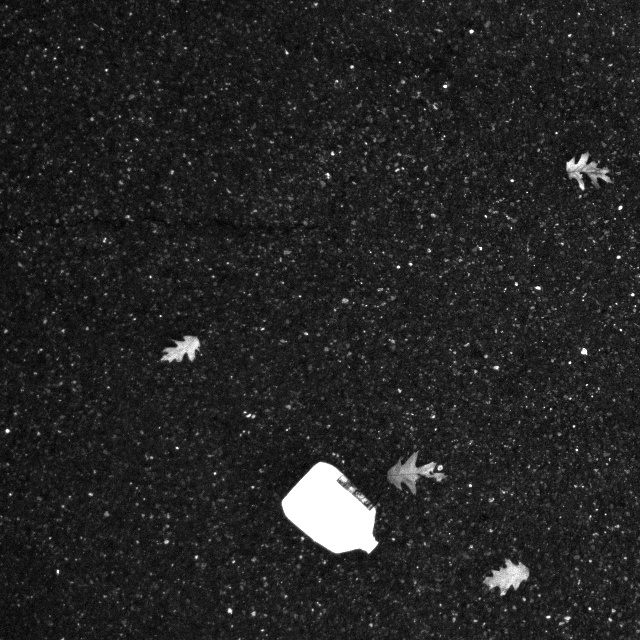can: (271, 447, 389, 569)
